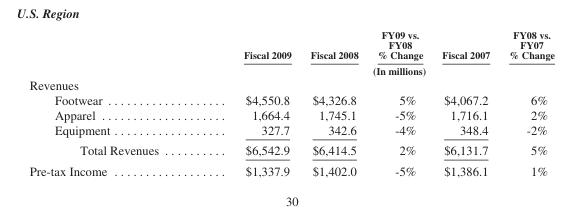table: (28, 28, 553, 177)
table column: (28, 28, 200, 177), (200, 28, 300, 177), (300, 28, 367, 177), (431, 28, 498, 177), (367, 28, 431, 177), (498, 28, 553, 177)
table column header: (28, 28, 553, 76)
table projected row header: (28, 76, 553, 91)
table row: (28, 28, 553, 62), (28, 139, 553, 160), (28, 122, 553, 139), (28, 160, 553, 177), (28, 91, 553, 107), (28, 76, 553, 91), (28, 107, 553, 122), (28, 62, 553, 76)
table spanning cell: (200, 62, 553, 76)
